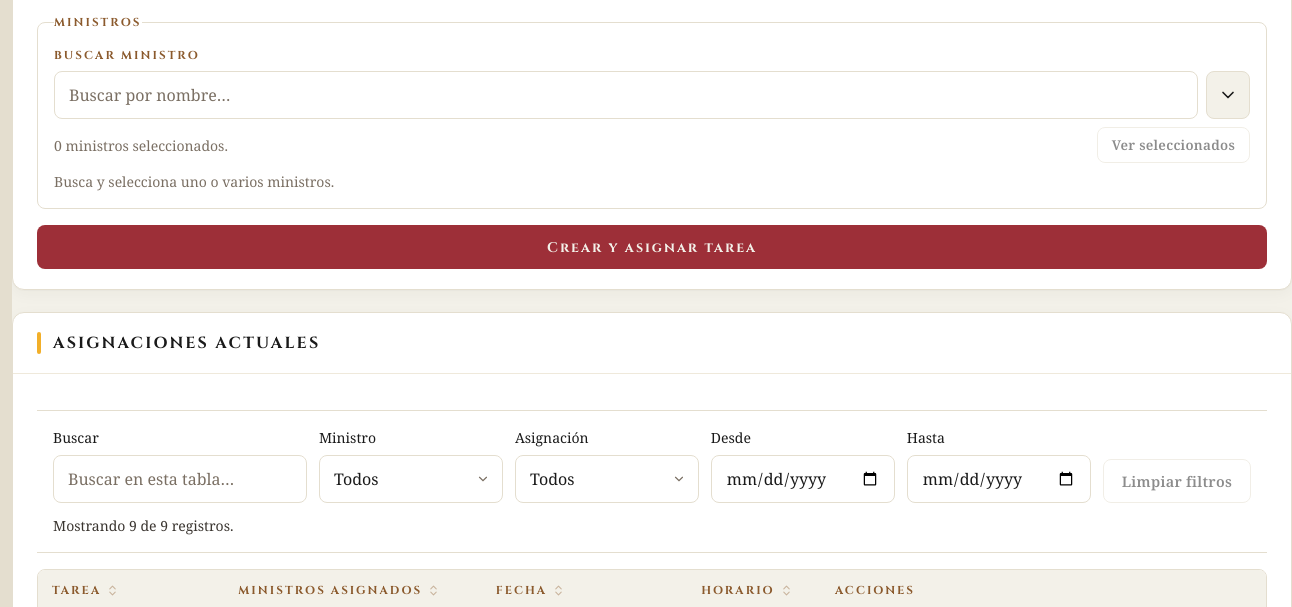
Test case: integración de tareas, asignaciones y permisos › valida y reporta errores al asignar
The width and height of the screenshot is (1292, 607).
(page scrolled)
Click the button "Crear y asignar tarea" at (652, 247), box left=37, top=225, right=1267, bottom=269
(page scrolled)
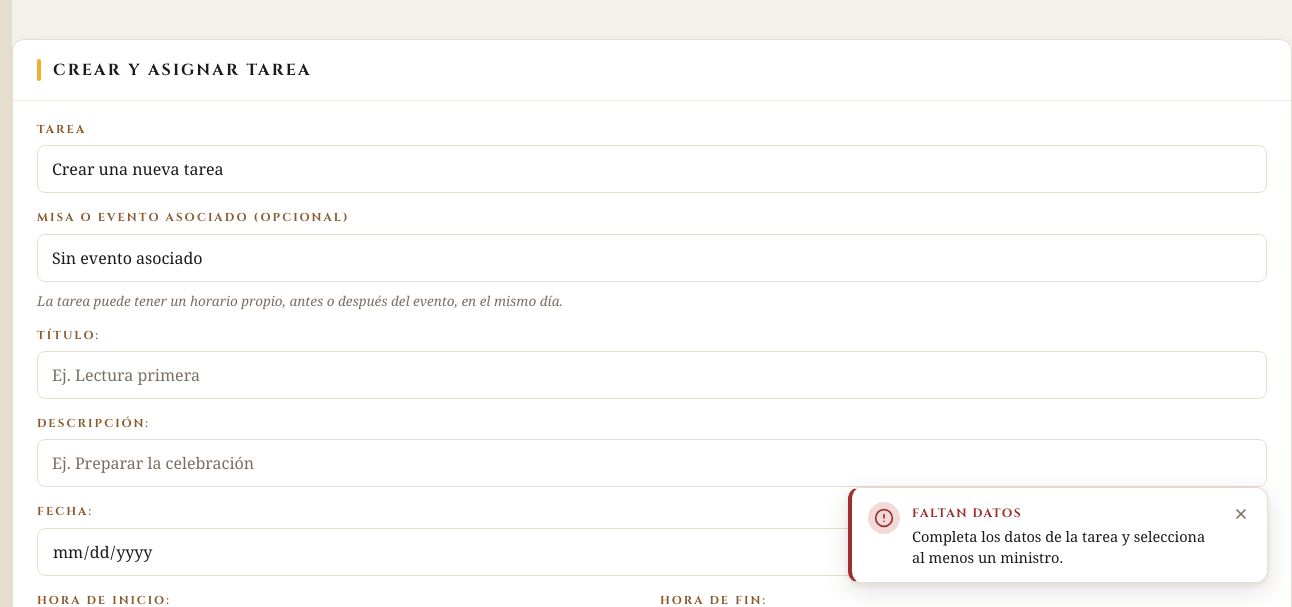
Expected: the message shows "selecciona al menos un ministro", left=912, top=526, right=1205, bottom=567
Select "Lectura dominical · 20 de octubre de 2099 · 14:00 – 15:00" in the dropdown labelled "Tarea" at (652, 169), box left=37, top=145, right=1267, bottom=193
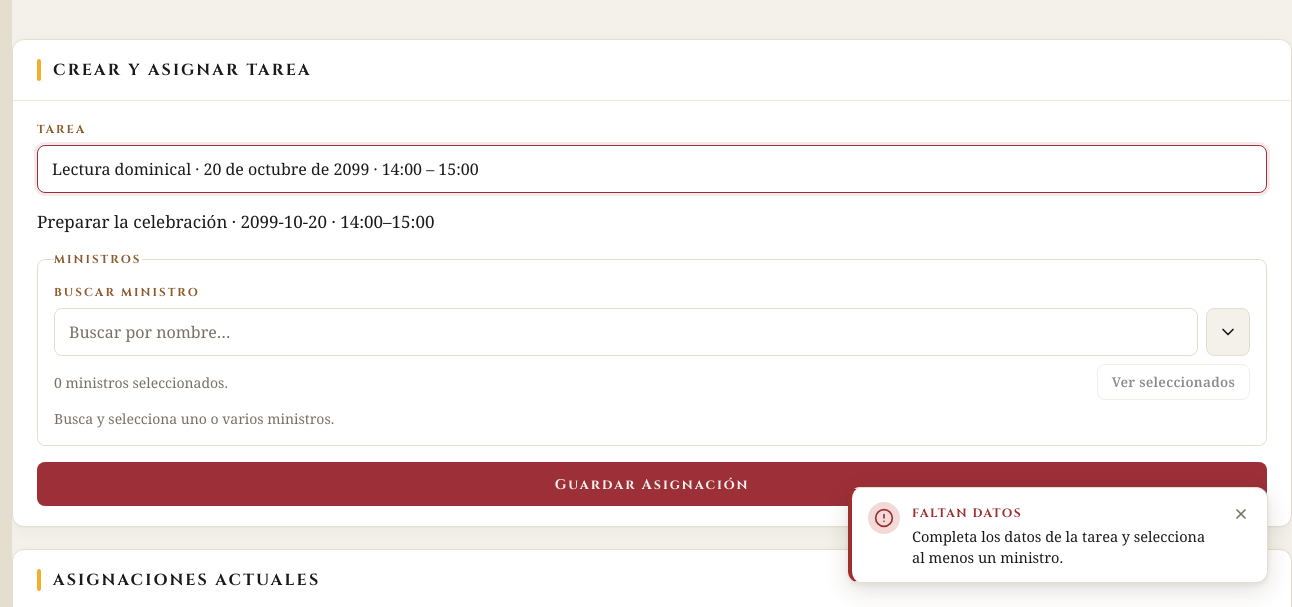
Click the button named "opciones de ministros" at (1228, 332), box left=1206, top=308, right=1250, bottom=356
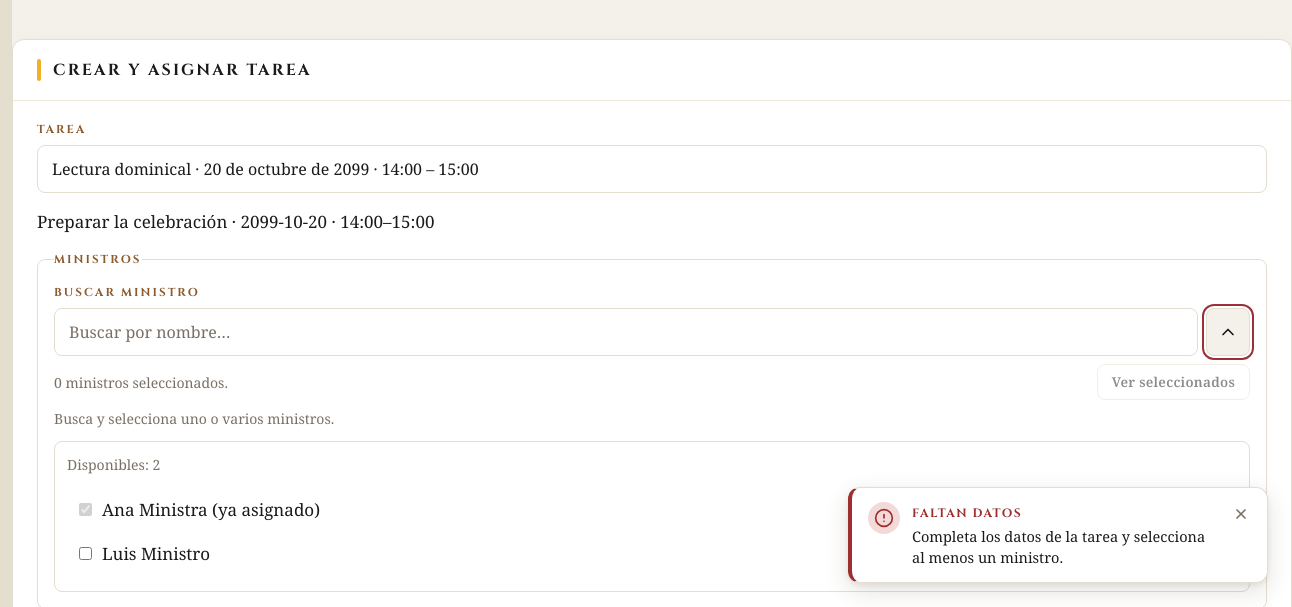
Expected: the checkbox labelled "Ana Ministra (ya asignado)" is disabled, left=79, top=503, right=92, bottom=516
Click the checkbox labelled "Luis Ministro" at (86, 553), box left=79, top=547, right=92, bottom=560
(page scrolled)
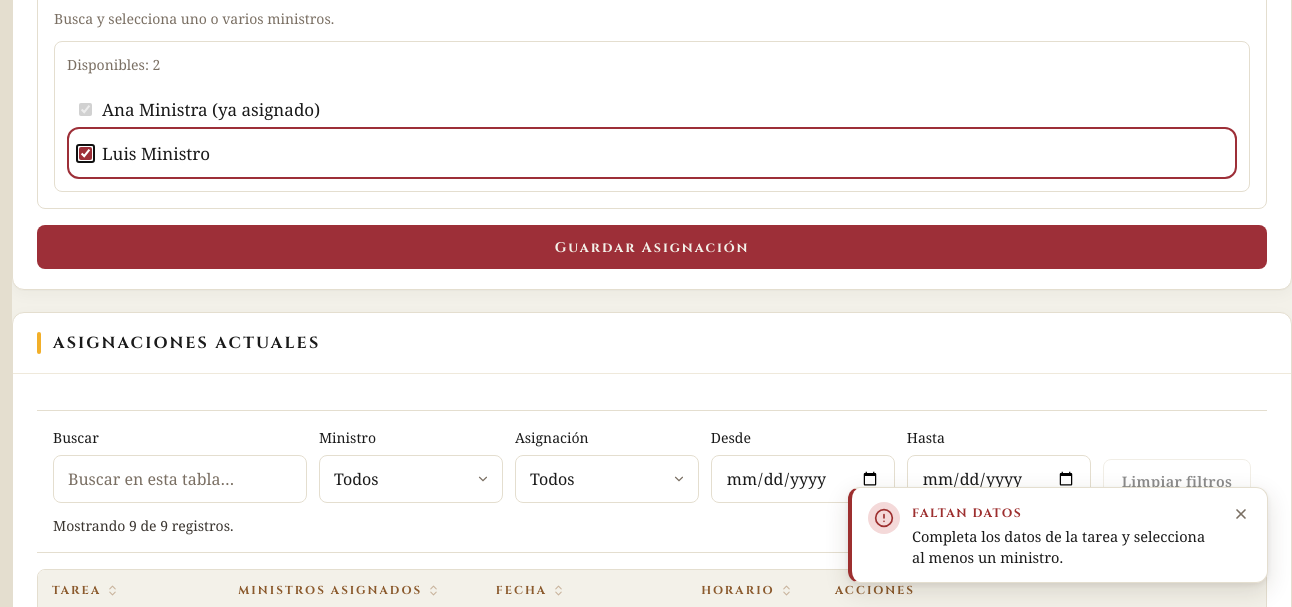
Click the button "Guardar Asignación" at (652, 247), box left=37, top=225, right=1267, bottom=269
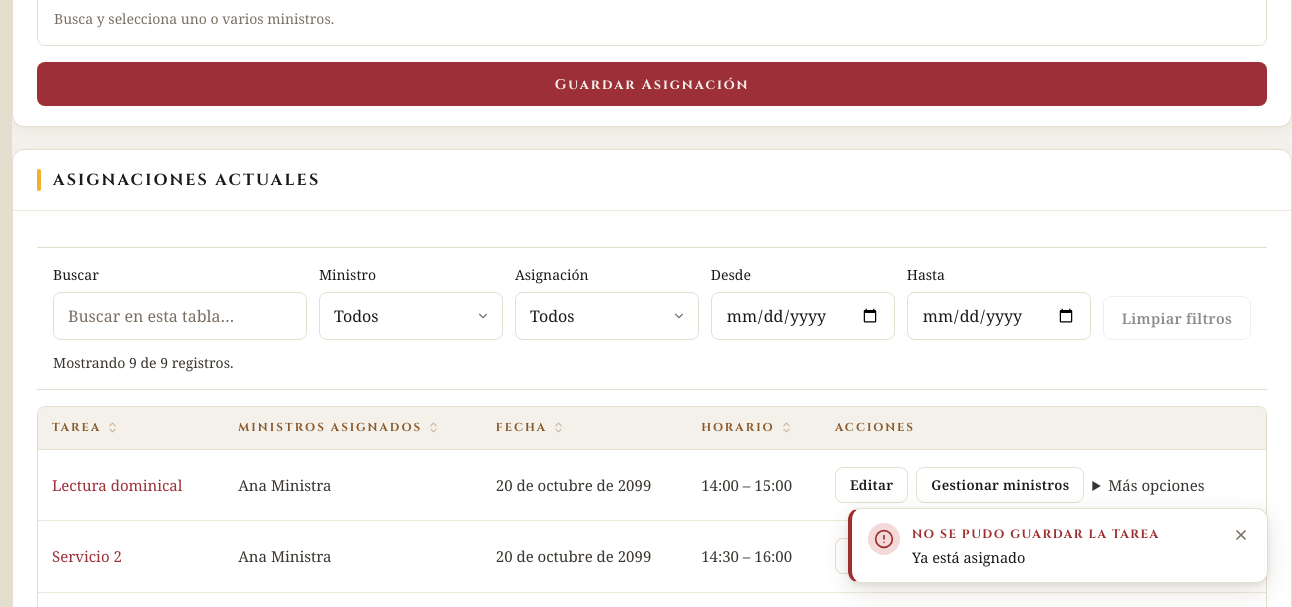
Expected: the message shows "Ya está asignado", left=912, top=547, right=1025, bottom=567
